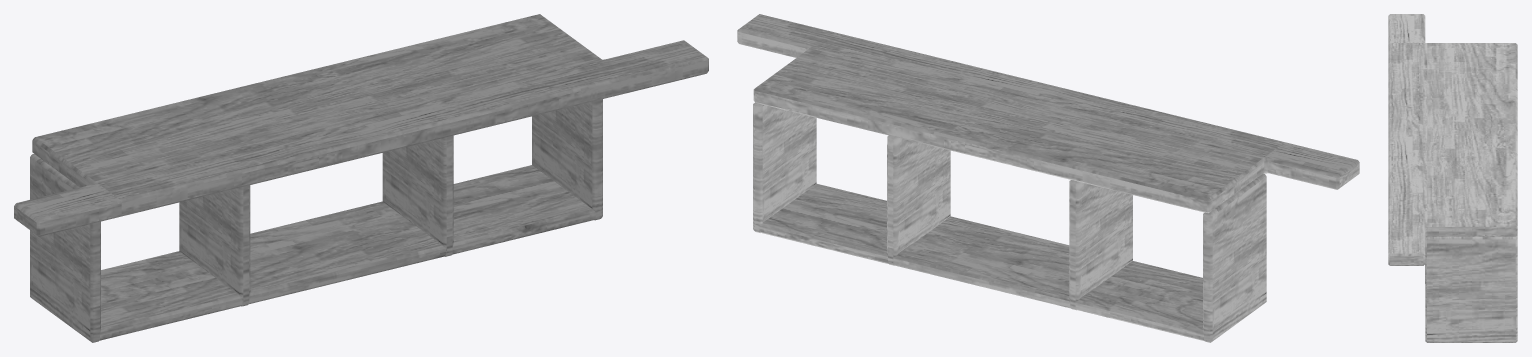
The picture shows the model from 3 angles, left to right: view 1: azimuth 30°, elevation 25°; view 2: azimuth 150°, elevation 25°; view 3: azimuth 270°, elevation 25°; orthographic projection. The views are drawn at different scales.
Visible parts, largest first — view 1: FP219:Cube.1093_2ec61626; view 2: FP219:Cube.1093_2ec61626; view 3: FP219:Cube.1093_2ec61626.
Part boxes in pixels (x1,y1,x2,y2): FP219:Cube.1093_2ec61626: [14, 14, 708, 342]; FP219:Cube.1093_2ec61626: [737, 14, 1359, 342]; FP219:Cube.1093_2ec61626: [1388, 14, 1517, 342].
Bounding box in the file's own units: 1.36 × 0.3108 × 0.3084.
